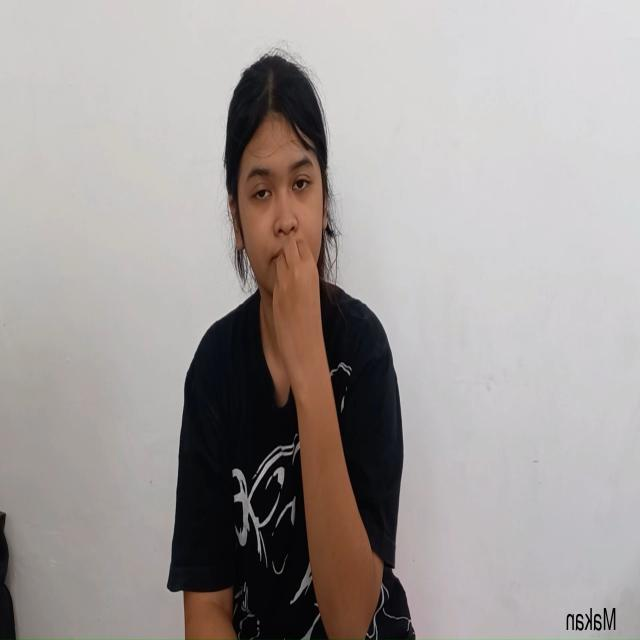Makan -BISINDO-: (218, 40, 340, 445)
